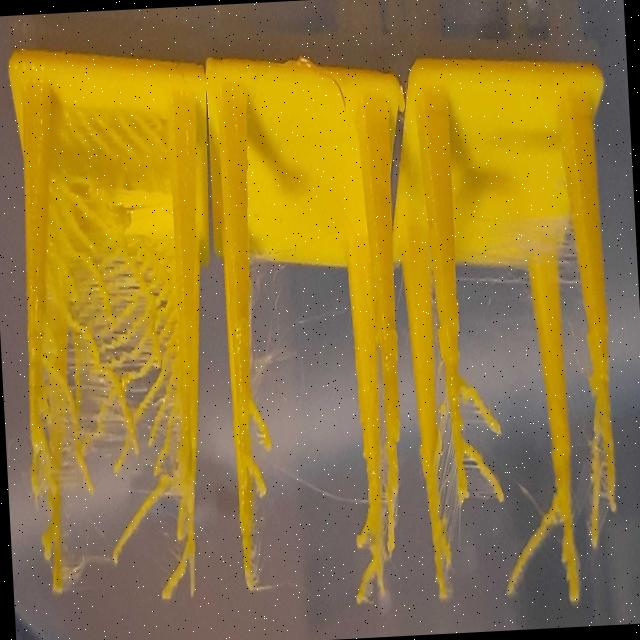stringing: (28, 128, 184, 494), (54, 476, 186, 618), (493, 486, 564, 604), (426, 378, 462, 578), (459, 369, 507, 506), (574, 408, 608, 546), (242, 380, 278, 510), (343, 500, 380, 606)
